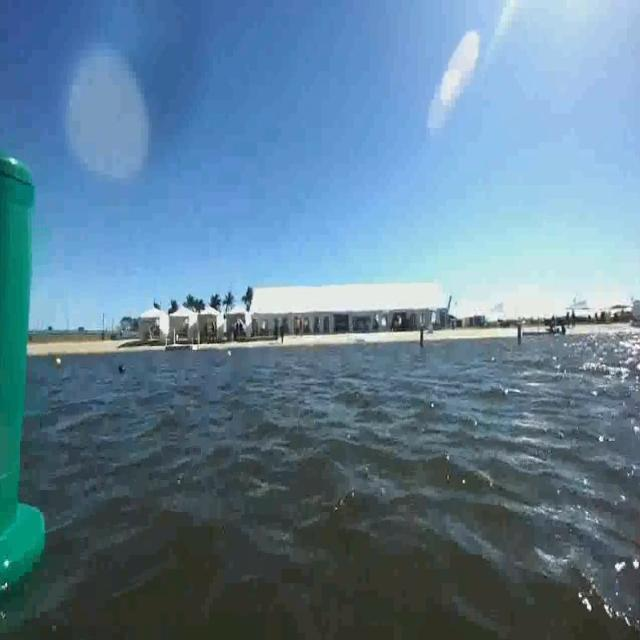green-column-buoy: (0, 150, 53, 586)
